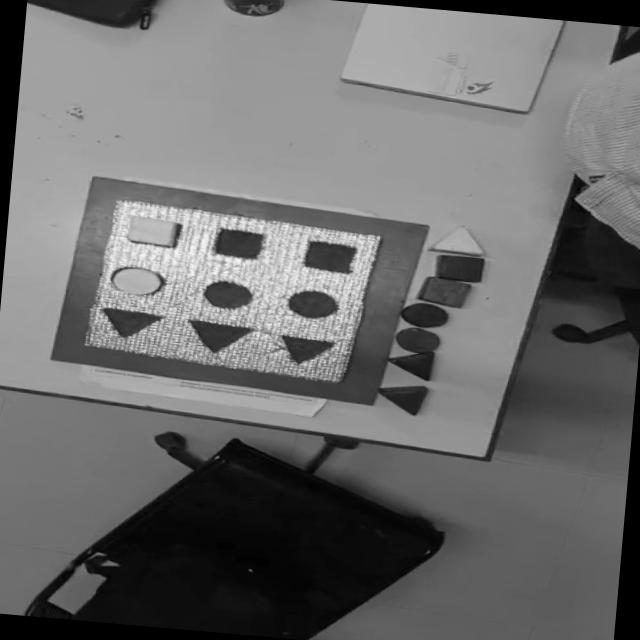bcircle: (398, 301, 449, 330)
bcube: (434, 254, 486, 284)
btriangle: (384, 348, 435, 380)
mtcircle: (284, 288, 338, 321), (201, 279, 254, 312)
mtcube: (302, 240, 358, 276), (212, 228, 266, 262)
mttriangle: (183, 319, 255, 358), (98, 307, 164, 342), (274, 334, 336, 369)
rcircle: (393, 326, 441, 355)
rcube: (416, 276, 471, 309)
rtriangle: (374, 382, 428, 418)
wb: (81, 197, 382, 385)
ycircle: (106, 265, 166, 299)
ycube: (125, 214, 180, 248)
ytriangle: (428, 222, 486, 258)
